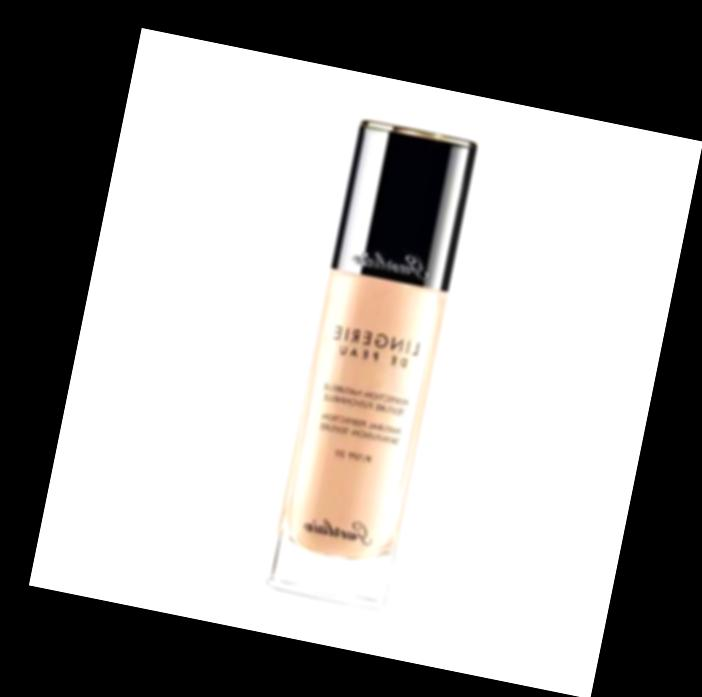cosmetic: (262, 115, 478, 608)
